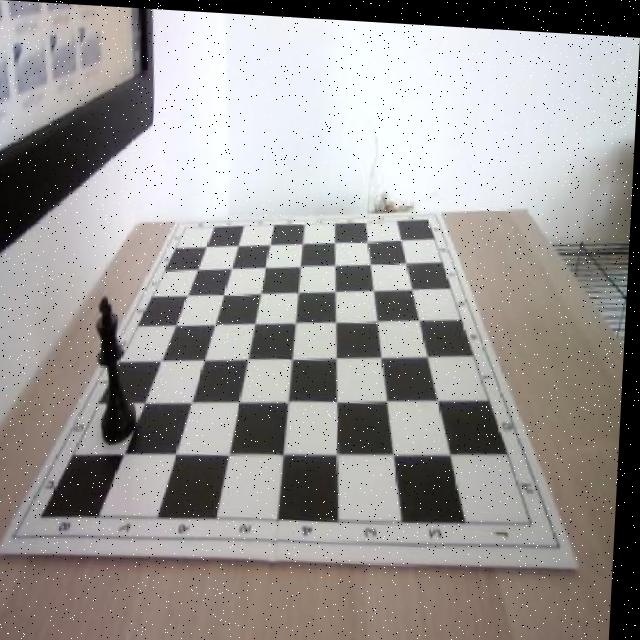black-bishop: (92, 293, 148, 445)
